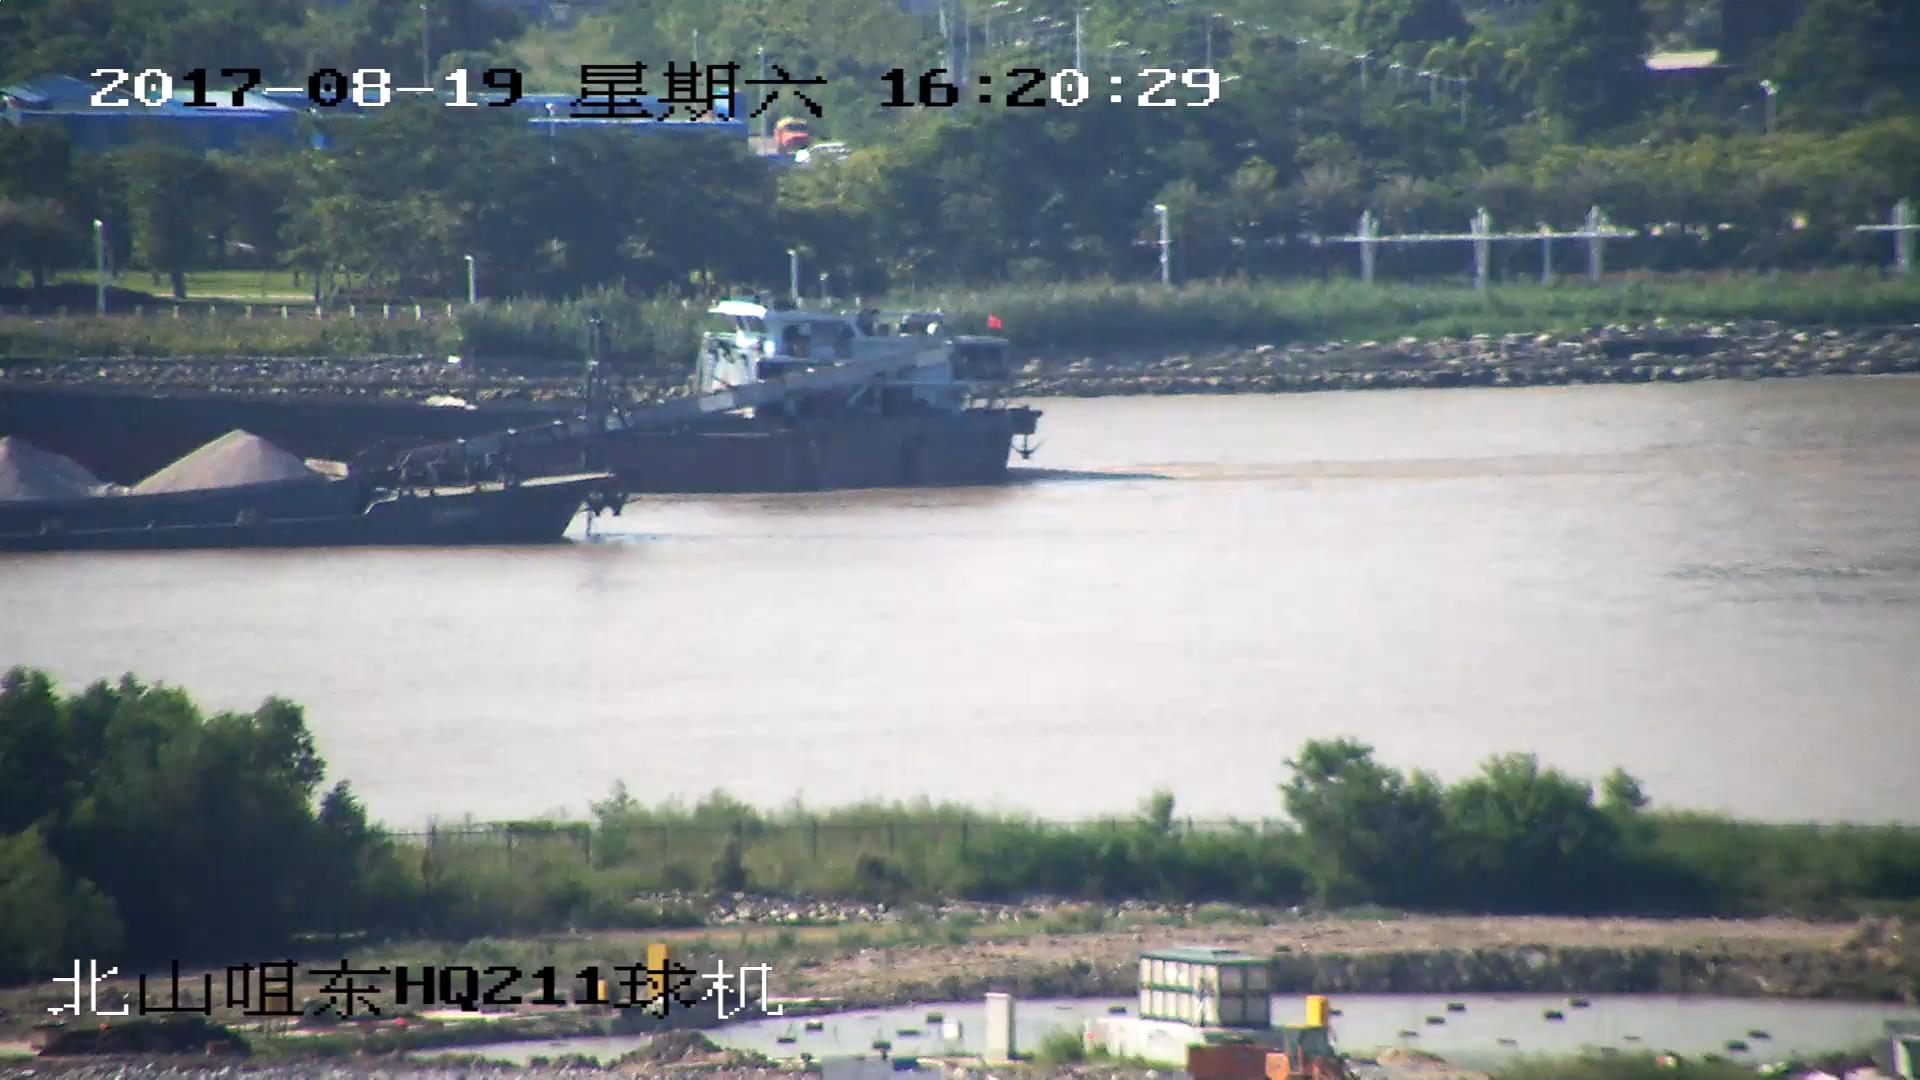bulk cargo carrier: (1, 293, 1035, 484)
ore carrier: (1, 347, 954, 553)
